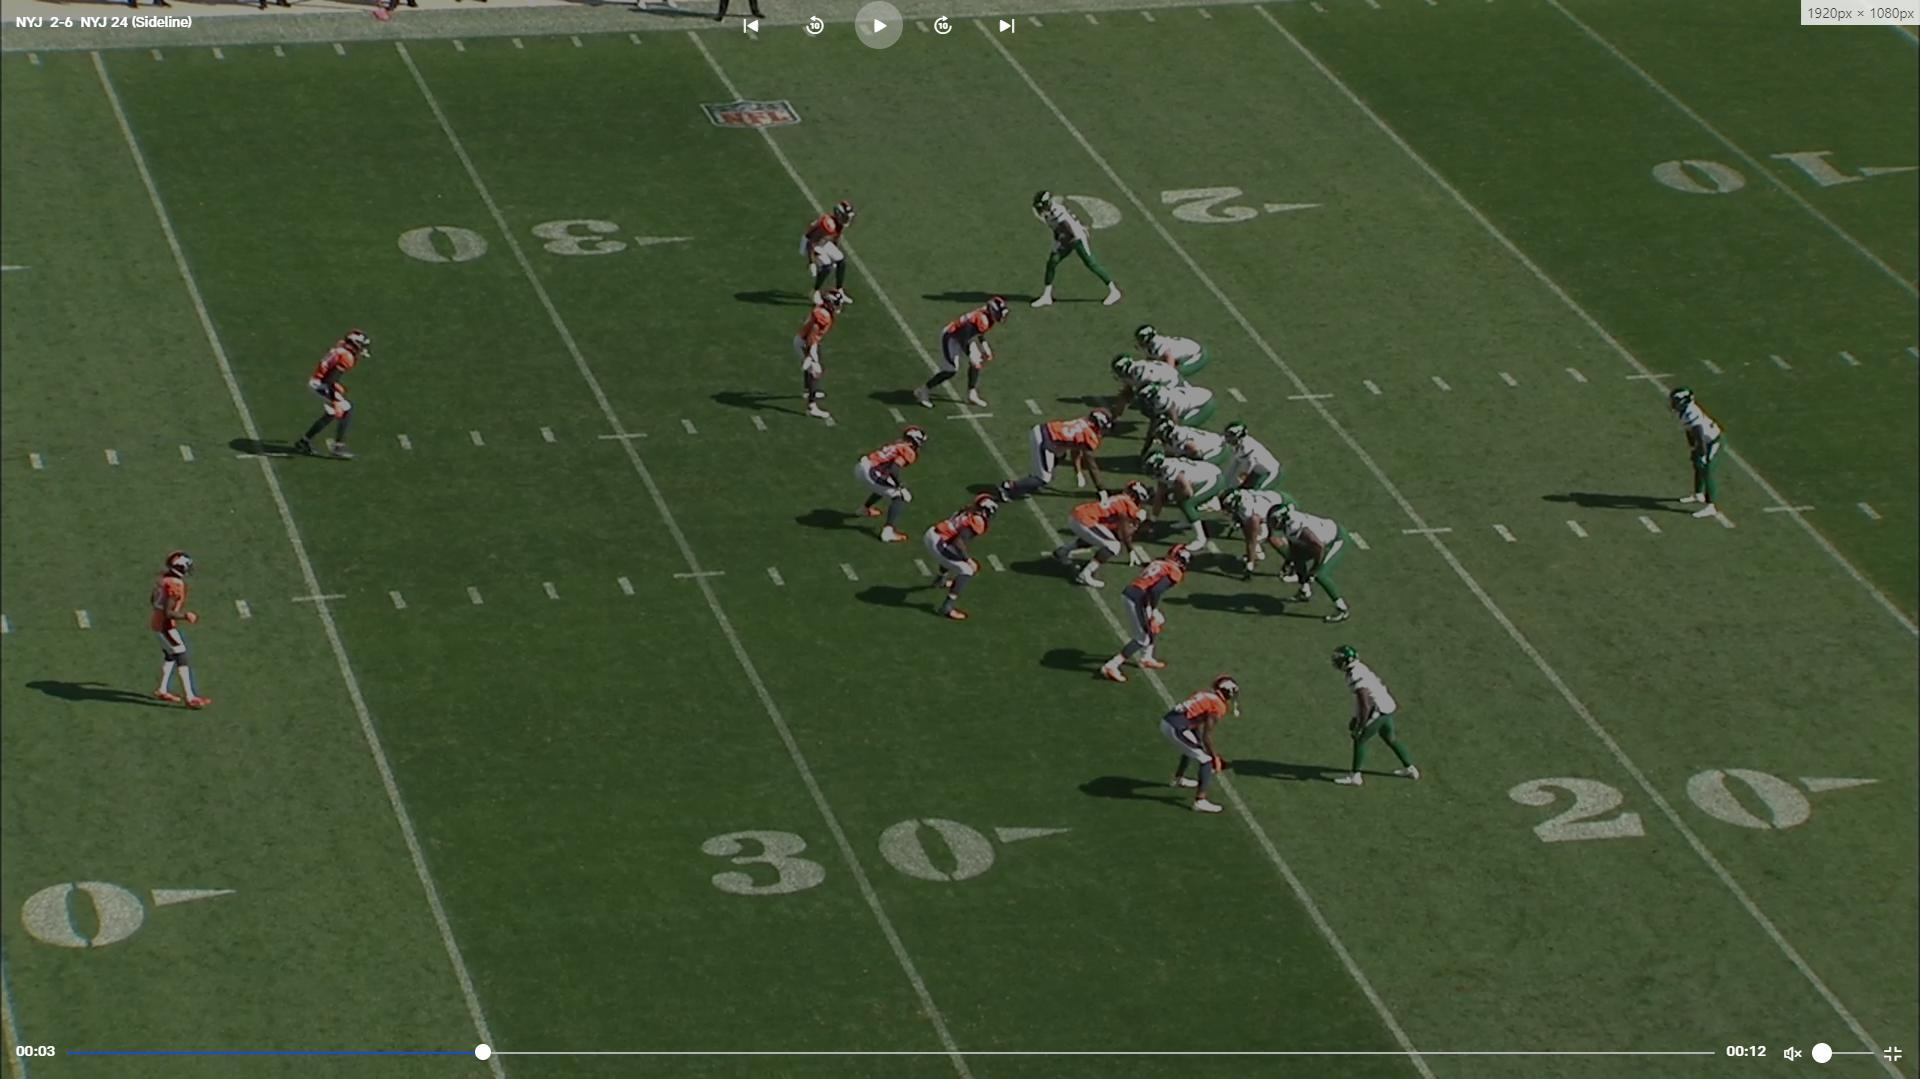player: (1336, 645, 1430, 792), (149, 544, 222, 725), (1094, 541, 1185, 686), (1030, 186, 1124, 313), (920, 294, 1016, 417), (996, 412, 1116, 507), (1169, 672, 1245, 820), (1046, 479, 1147, 589), (1268, 507, 1359, 626), (309, 319, 384, 461), (1666, 381, 1736, 526), (921, 493, 992, 630), (854, 427, 929, 548), (796, 282, 856, 422), (804, 189, 863, 314), (1145, 452, 1228, 538), (1222, 489, 1296, 581), (1107, 355, 1189, 433), (1142, 380, 1222, 456), (1224, 418, 1290, 495), (1133, 322, 1208, 382), (1154, 421, 1232, 463)
